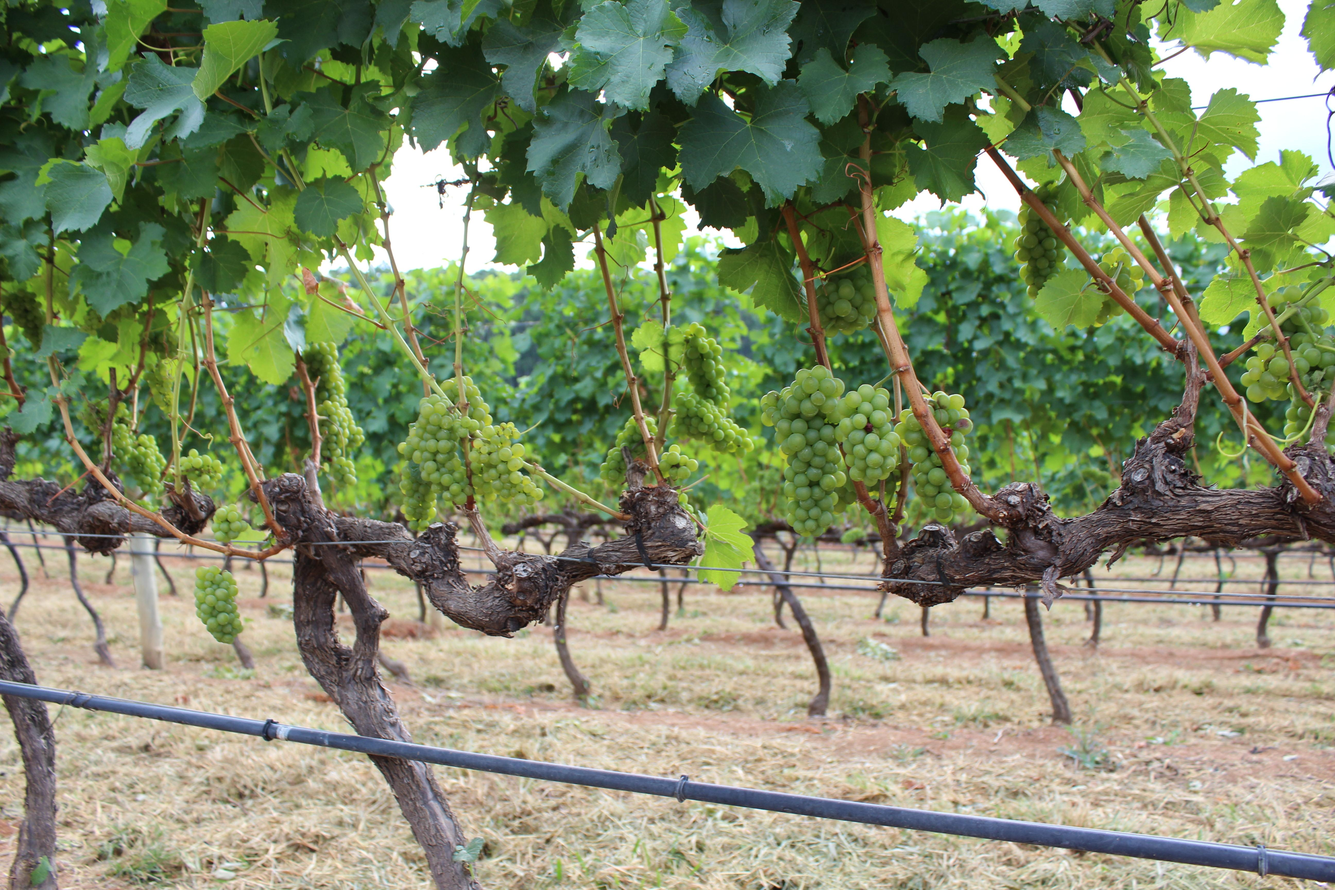leaf: (679, 81, 823, 204), (666, 0, 799, 105), (569, 0, 686, 110), (527, 90, 620, 210), (412, 46, 501, 157), (893, 35, 1004, 122), (483, 0, 567, 113), (69, 223, 169, 317), (123, 54, 205, 149), (717, 239, 808, 323), (264, 0, 374, 69), (307, 82, 390, 171), (1170, 0, 1285, 64), (798, 45, 890, 125), (905, 117, 989, 201), (192, 20, 278, 100), (611, 111, 676, 205), (227, 298, 295, 385), (19, 55, 97, 130), (788, 0, 875, 64), (44, 161, 113, 234), (698, 504, 754, 591), (1192, 88, 1260, 159), (103, 0, 167, 70), (1034, 269, 1105, 331), (1005, 106, 1086, 160), (294, 178, 364, 237), (484, 203, 549, 266), (1100, 128, 1171, 179), (305, 280, 354, 344), (526, 226, 573, 291), (1300, 0, 1335, 70), (567, 4, 572, 8), (273, 292, 276, 294), (308, 88, 308, 88)
